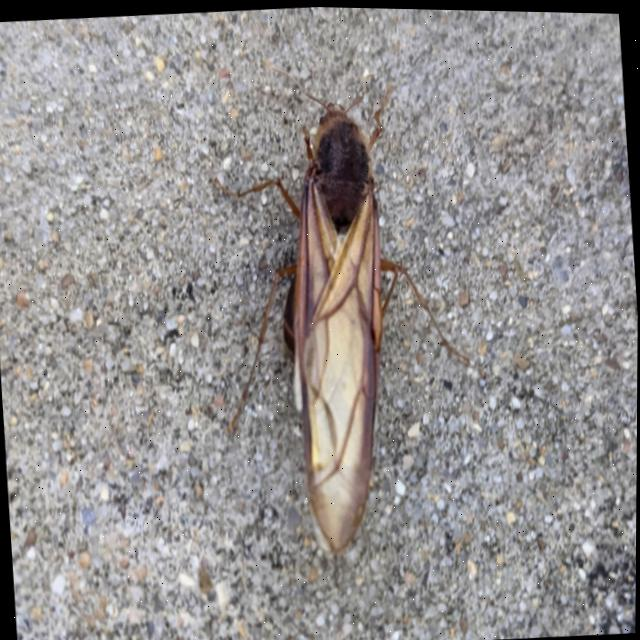Alive-Male-Alate: (199, 42, 486, 563)
